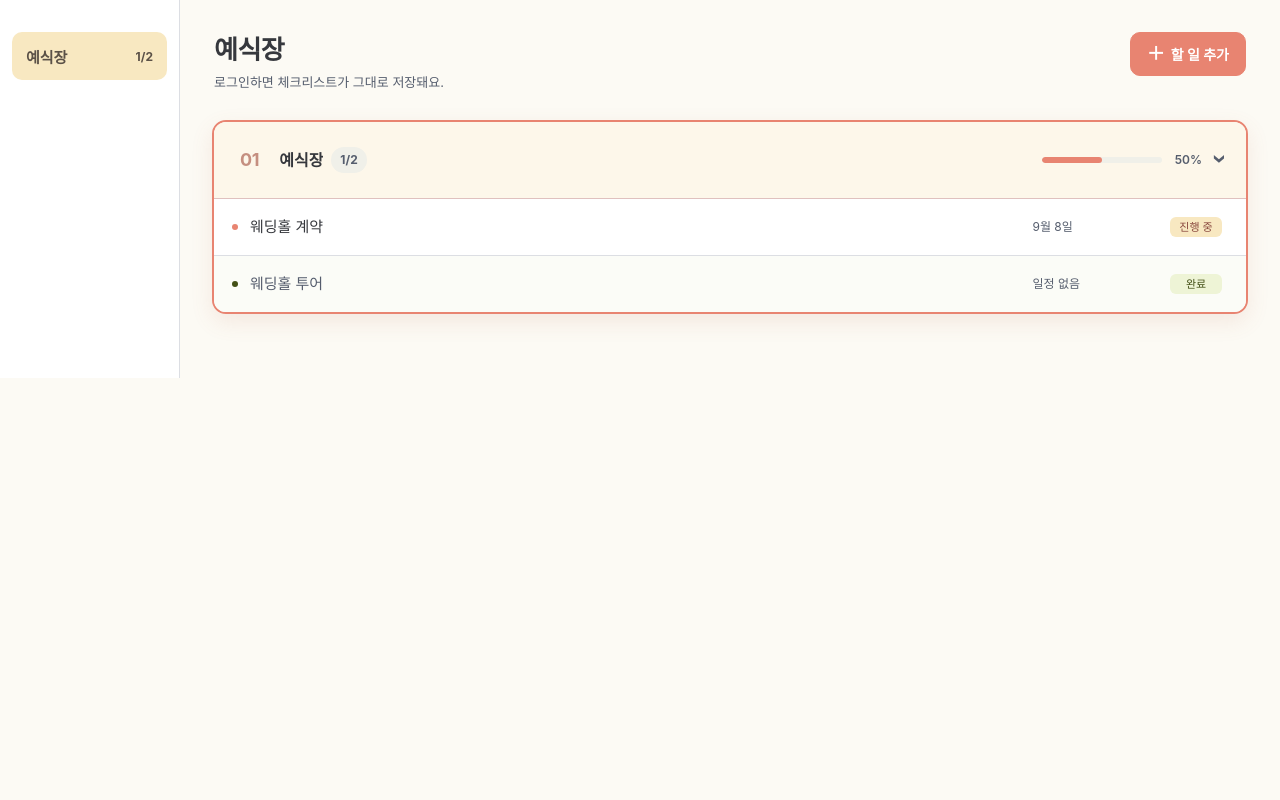
Test: Checklist 웹 상세 패널 › 다른 할 일을 선택하면 패널 내용을 교체하고 빈 일정 상태를 표시한다
The width and height of the screenshot is (1280, 800).
Click the button "웨딩홀 계약 9월 8일 진행 중" at (286, 226), box [214,199,1246,255]
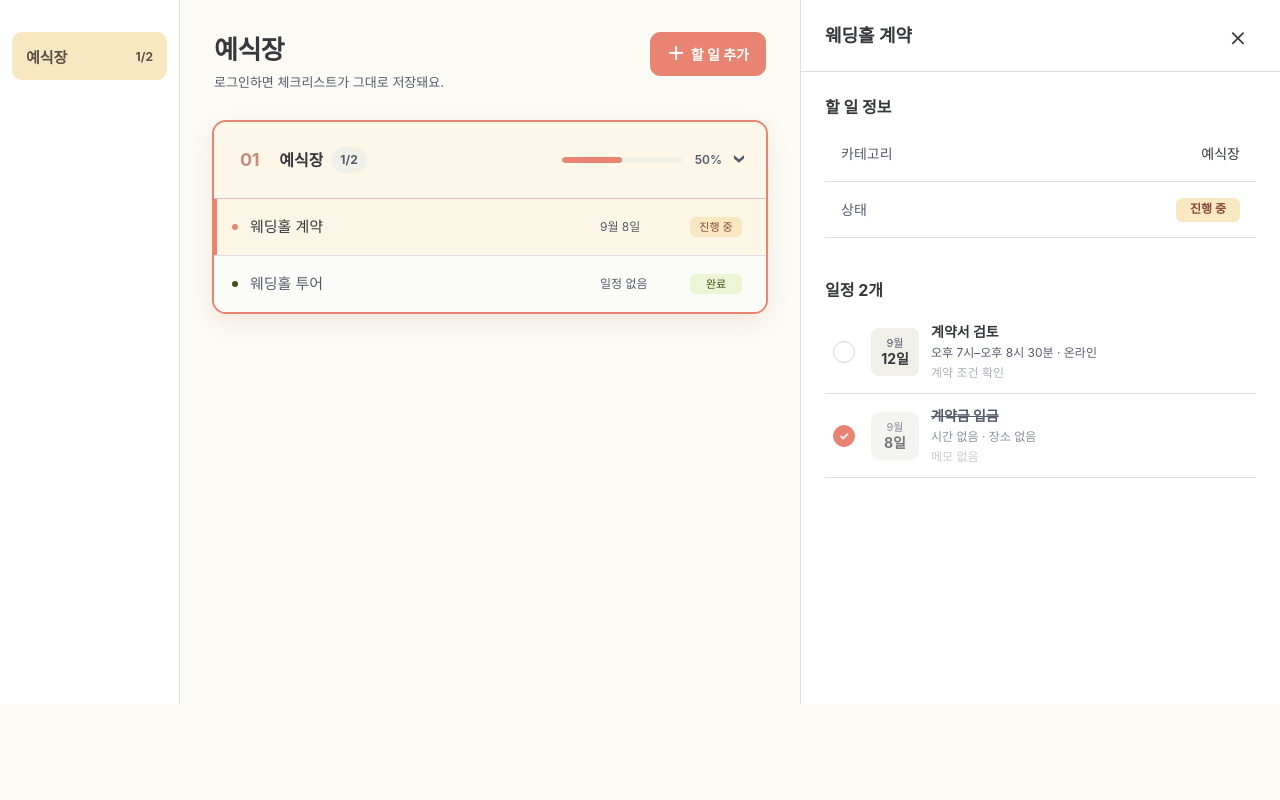
Click the button "웨딩홀 투어 일정 없음 완료" at (286, 283), box [214,256,766,312]
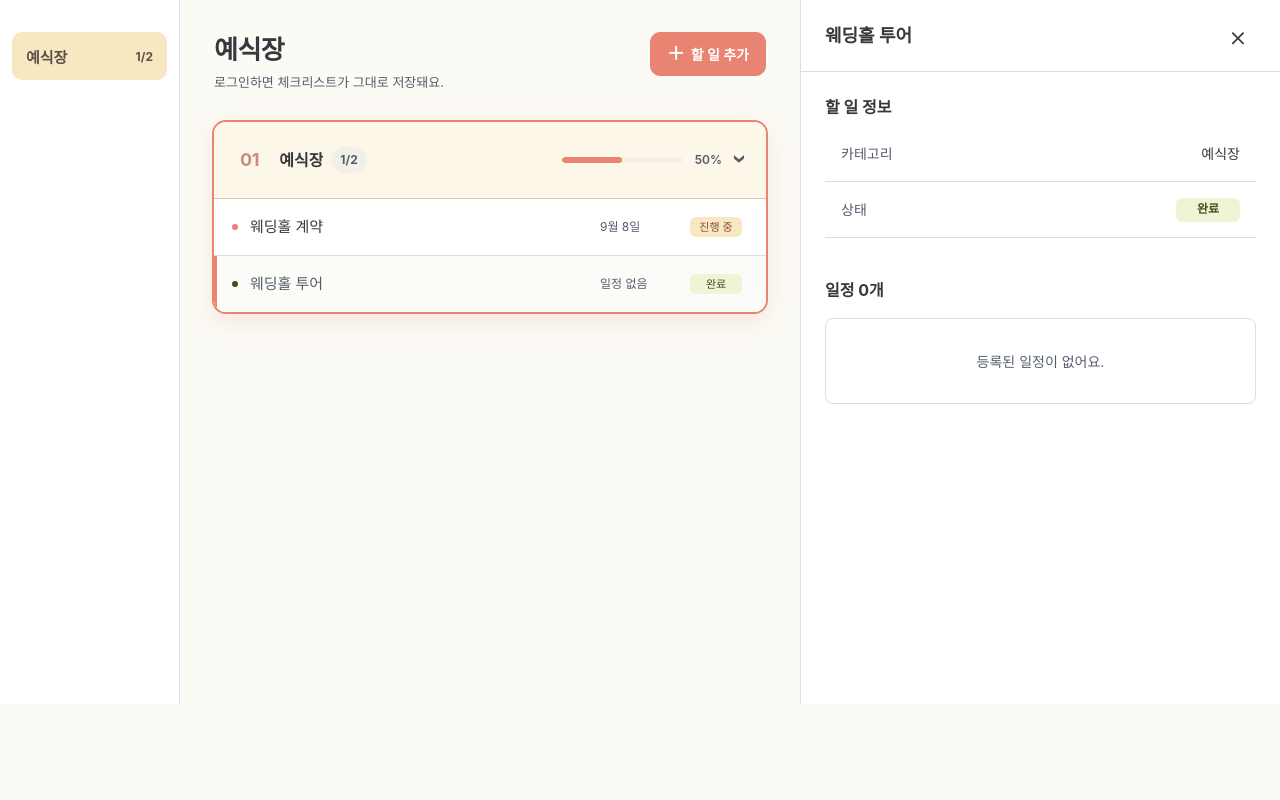
Expected: the text "완료" in the row of "상태" is shown, [1197,202,1219,216]
Expected: the heading "일정 0개" is shown, [825,279,884,302]
Expected: the text "등록된 일정이 없어요." is shown, [825,318,1256,404]
